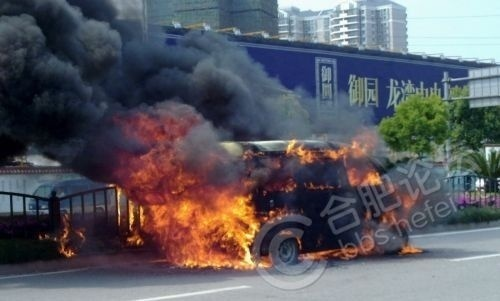fire: (82, 108, 409, 276)
